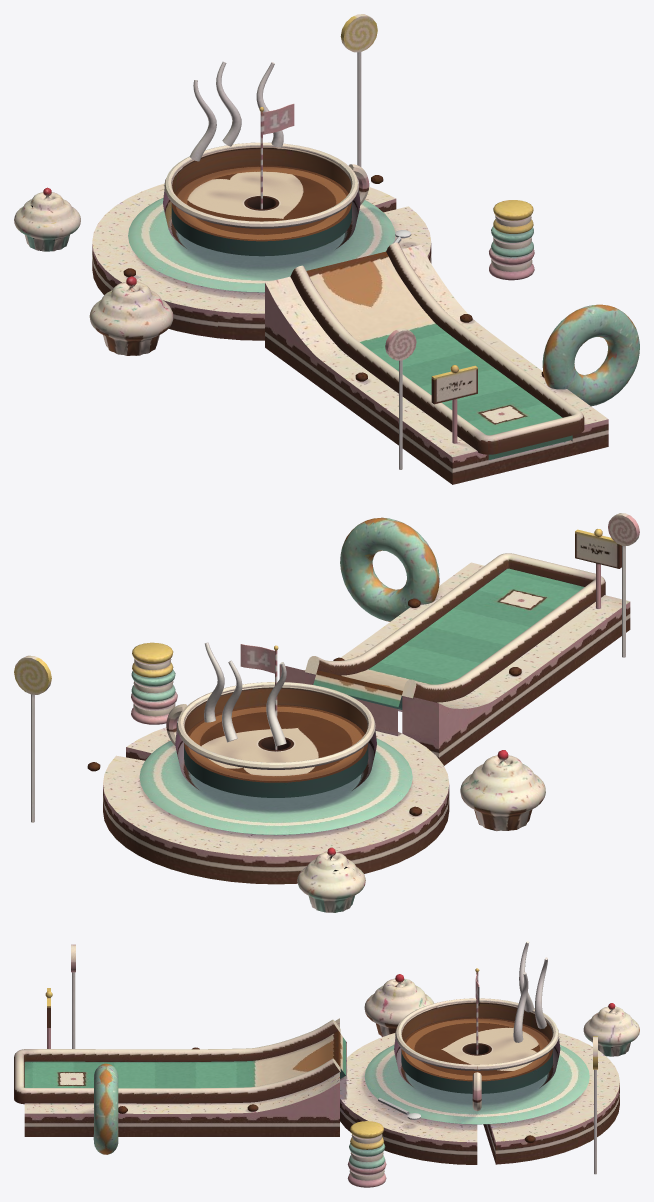
Rendered from hole14.glb.
3 renders of one model, top to bottom at view 1: azimuth 30°, elevation 25°; view 2: azimuth 150°, elevation 25°; view 3: azimuth 270°, elevation 25°, orthographic. The views are drawn at different scales.
Parts seen in each view (by area): view 1: Base, Mug, Green, GreenMug, Rails, Decor4, Decor1, Decor2, Decor6, Steam, Decor5, HoleSign (+2 smaller); view 2: Base, Mug, Green, GreenMug, Rails, Decor4, Decor1, Decor2, Decor6, Steam, Decor5, HoleSign (+2 smaller); view 3: Base, Mug, Rails, GreenMug, Green, Decor1, Decor2, Decor4, Decor6, Steam, Decor5, Decor3.
Part boxes in pixels (bbox=[...]): Base: bbox=[92, 183, 608, 484]; Mug: bbox=[128, 142, 395, 292]; Green: bbox=[306, 251, 572, 459]; GreenMug: bbox=[171, 165, 351, 256]; Rails: bbox=[290, 242, 584, 454]; Decor4: bbox=[542, 304, 639, 406]; Decor1: bbox=[89, 276, 173, 355]; Decor2: bbox=[489, 200, 534, 280]; Decor6: bbox=[14, 187, 80, 251]; Steam: bbox=[189, 61, 283, 161]; Decor5: bbox=[340, 14, 377, 166]; HoleSign: bbox=[431, 365, 477, 443]; Base: bbox=[103, 562, 630, 884]; Mug: bbox=[139, 682, 412, 835]; Green: bbox=[313, 568, 584, 709]; GreenMug: bbox=[184, 705, 368, 797]; Rails: bbox=[305, 553, 605, 702]; Decor4: bbox=[340, 517, 439, 621]; Decor1: bbox=[460, 750, 545, 830]; Decor2: bbox=[131, 642, 177, 724]; Decor6: bbox=[297, 847, 365, 912]; Steam: bbox=[204, 642, 286, 746]; Decor5: bbox=[14, 655, 51, 822]; HoleSign: bbox=[575, 529, 621, 608]; Base: bbox=[24, 1018, 619, 1164]; Mug: bbox=[364, 998, 589, 1124]; Rails: bbox=[14, 1019, 340, 1104]; GreenMug: bbox=[401, 1017, 552, 1093]; Green: bbox=[24, 1031, 345, 1088]; Decor1: bbox=[364, 974, 433, 1036]; Decor2: bbox=[347, 1121, 386, 1187]; Decor4: bbox=[93, 1063, 118, 1154]; Decor6: bbox=[583, 1003, 639, 1056]; Steam: bbox=[513, 941, 547, 1042]; Decor5: bbox=[593, 1036, 597, 1174]; Decor3: bbox=[71, 944, 75, 1048].
Size of what is drawn, in the model's own units: 4.97 by 2.02 by 7.68.
Materials: 1 (1 with a texture image).
